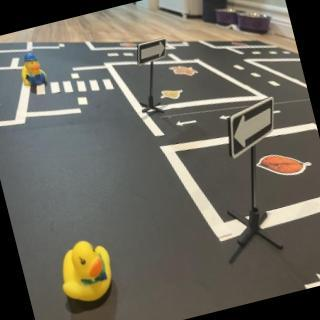duck_regular: (54, 237, 119, 308)
duck_specialty: (16, 50, 49, 90)
road_crosswalk: (33, 66, 117, 112)
road_oneway: (300, 265, 320, 290), (175, 115, 201, 132), (219, 113, 230, 123)
sign_oneway_left: (222, 97, 287, 161)
sign_oneway_right: (134, 38, 172, 67)
